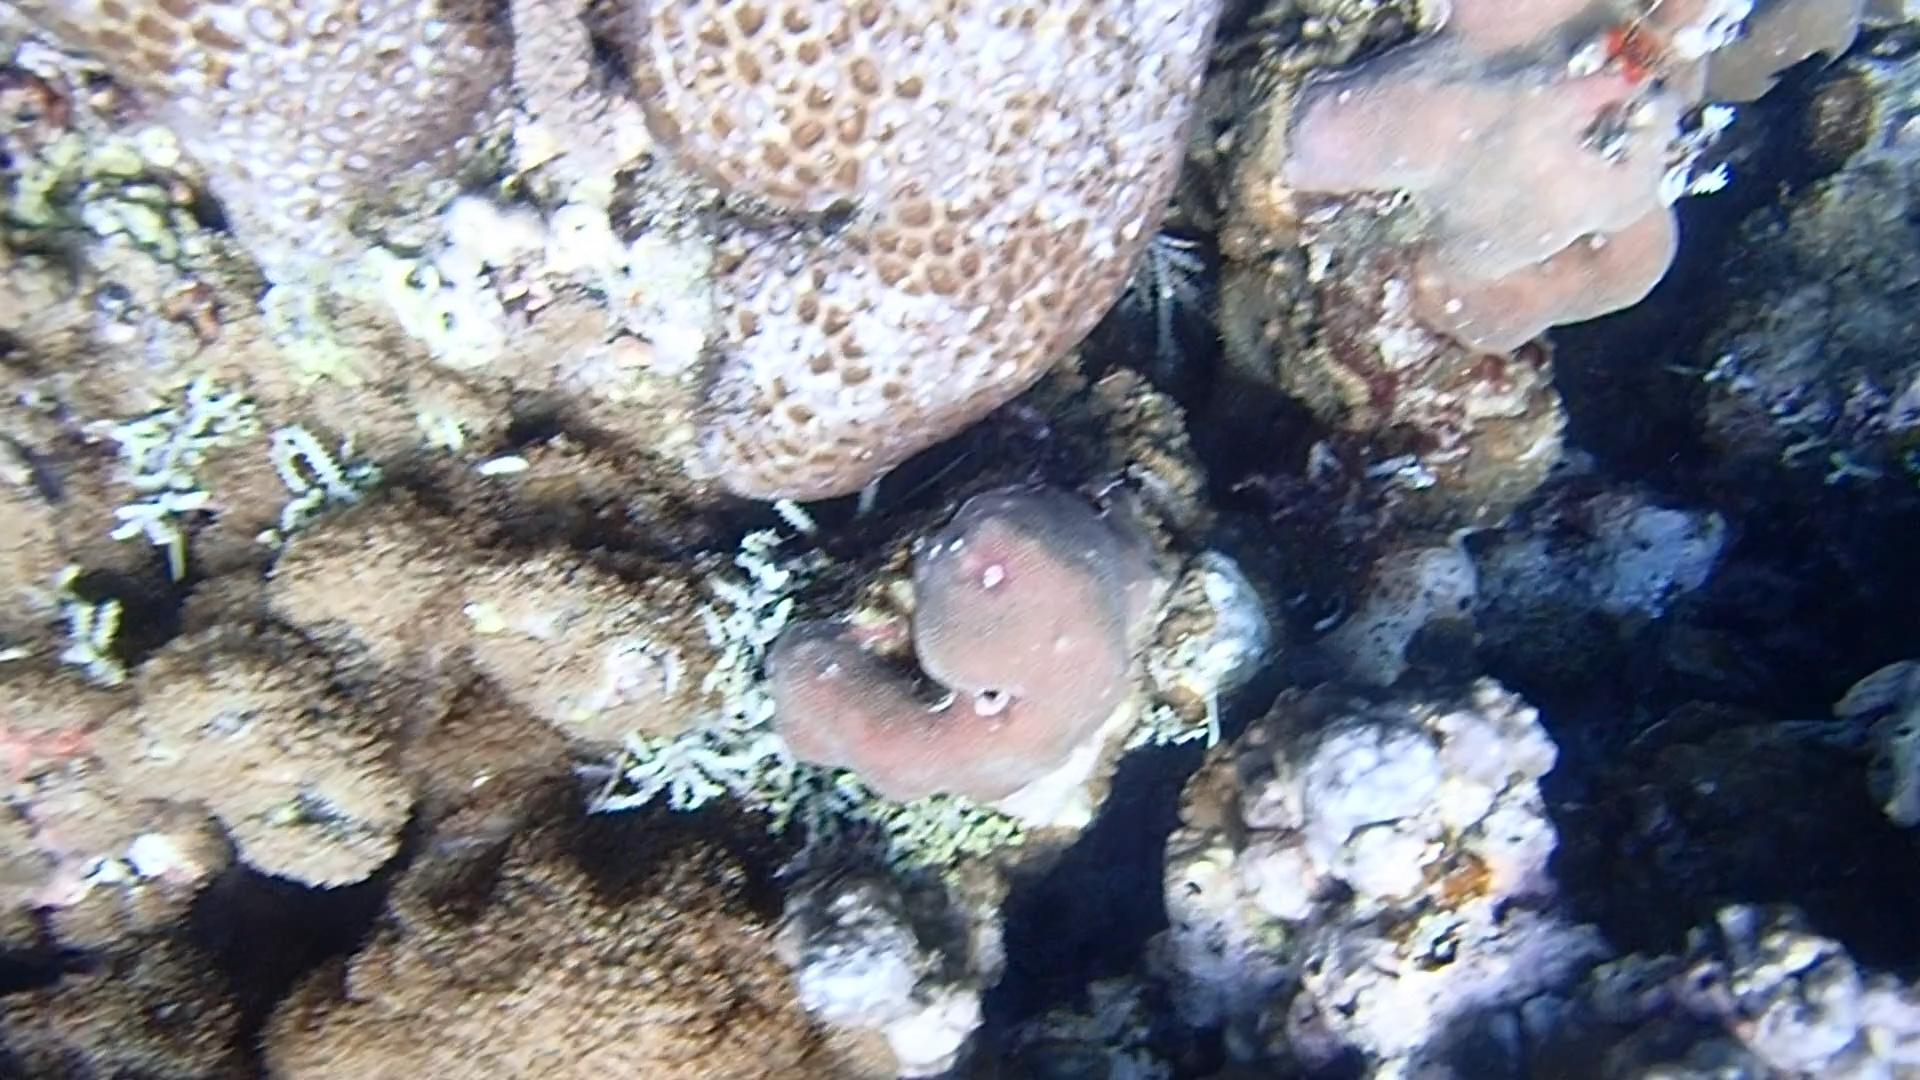Dark Fish: (1745, 42, 1838, 119)
